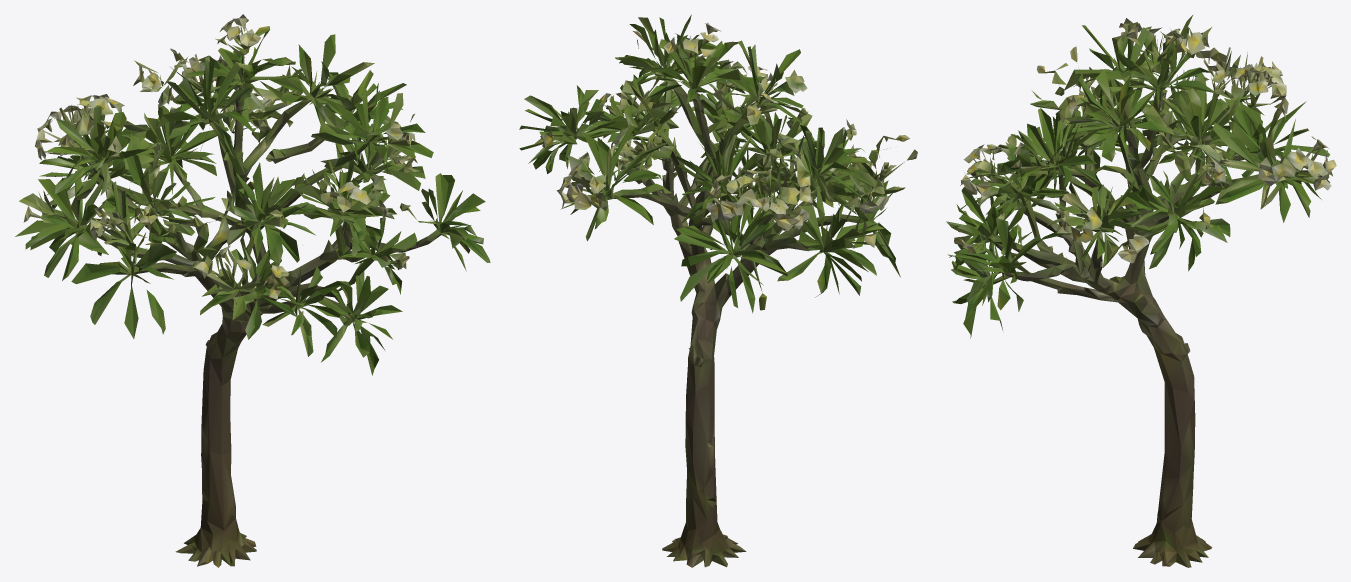
File: lib_tp_dai.vc.glb
3 renders of one model, left to right at view 1: azimuth 30°, elevation 25°; view 2: azimuth 150°, elevation 25°; view 3: azimuth 270°, elevation 25°, orthographic. The views are drawn at different scales.
Visible parts, largest first — view 1: lib_tp_dai; view 2: lib_tp_dai; view 3: lib_tp_dai.
Boxes of the visible parts, x1,y1,x2,y2 form: lib_tp_dai: (15, 14, 490, 567); lib_tp_dai: (519, 14, 917, 567); lib_tp_dai: (946, 15, 1336, 567).
Bounding box in the file's own units: 1.4 × 1.9 × 1.26.
